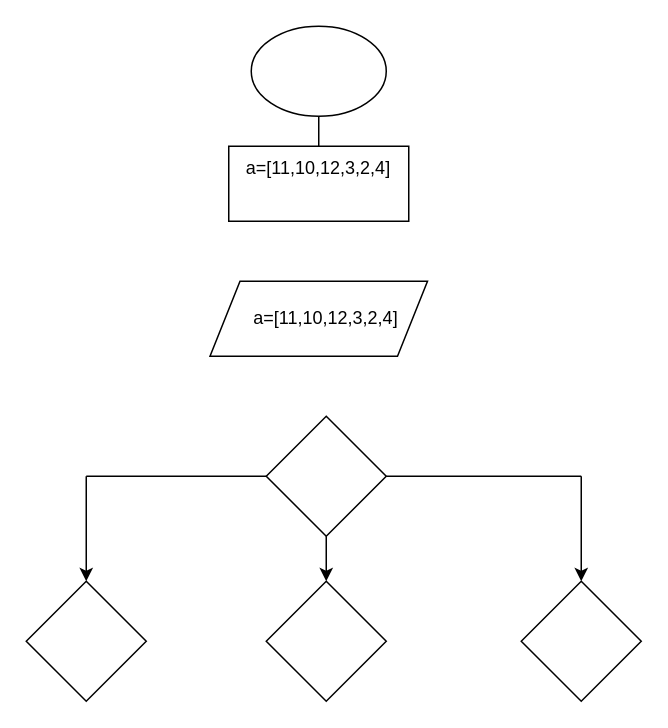
Image size: 668x728. Some labels were removed from this diagram. Each missing label, with the centre of its shape:
start: point (318, 70)
while(low<=up): point (325, 475)
